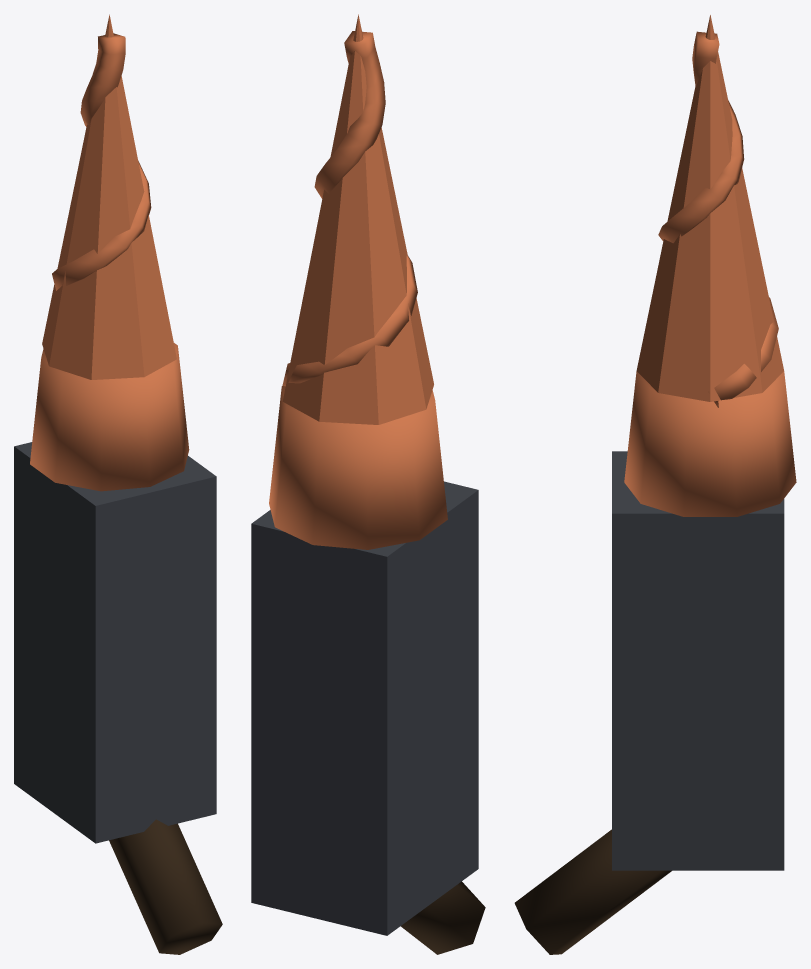
File: palladium_drill.glb
3 renders of one model, left to right at view 1: azimuth 30°, elevation 25°; view 2: azimuth 150°, elevation 25°; view 3: azimuth 270°, elevation 25°, orthographic. The views are drawn at different scales.
Visible parts, largest first — view 1: palladium_drill_v0; view 2: palladium_drill_v0; view 3: palladium_drill_v0.
Part boxes in pixels (left/top/right/bottom): palladium_drill_v0: left=14, top=14, right=222, bottom=954; palladium_drill_v0: left=251, top=14, right=485, bottom=954; palladium_drill_v0: left=514, top=15, right=796, bottom=954.
Bounding box in the file's own units: 0.1331 × 0.843 × 0.2292.
